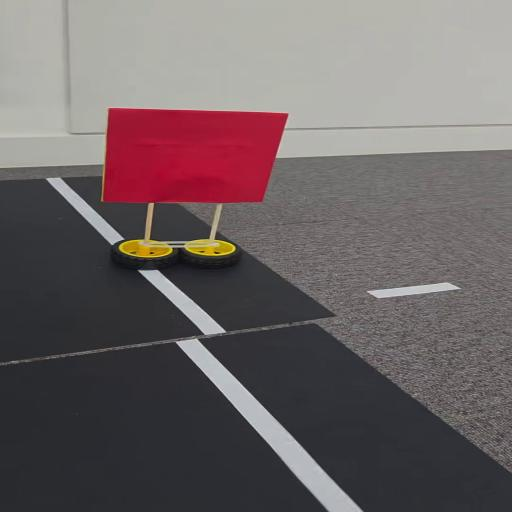Sign_A: (93, 98, 314, 274)
